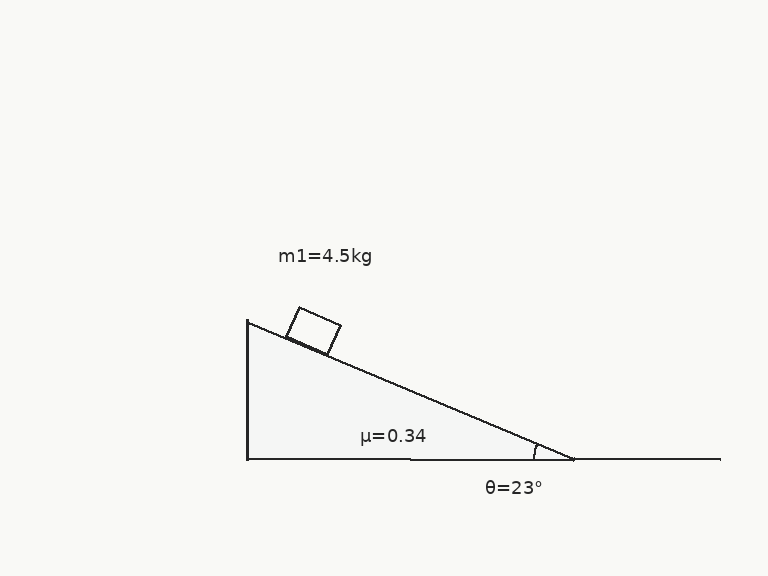block: (284, 305, 341, 356)
ramp: (245, 318, 576, 461)
